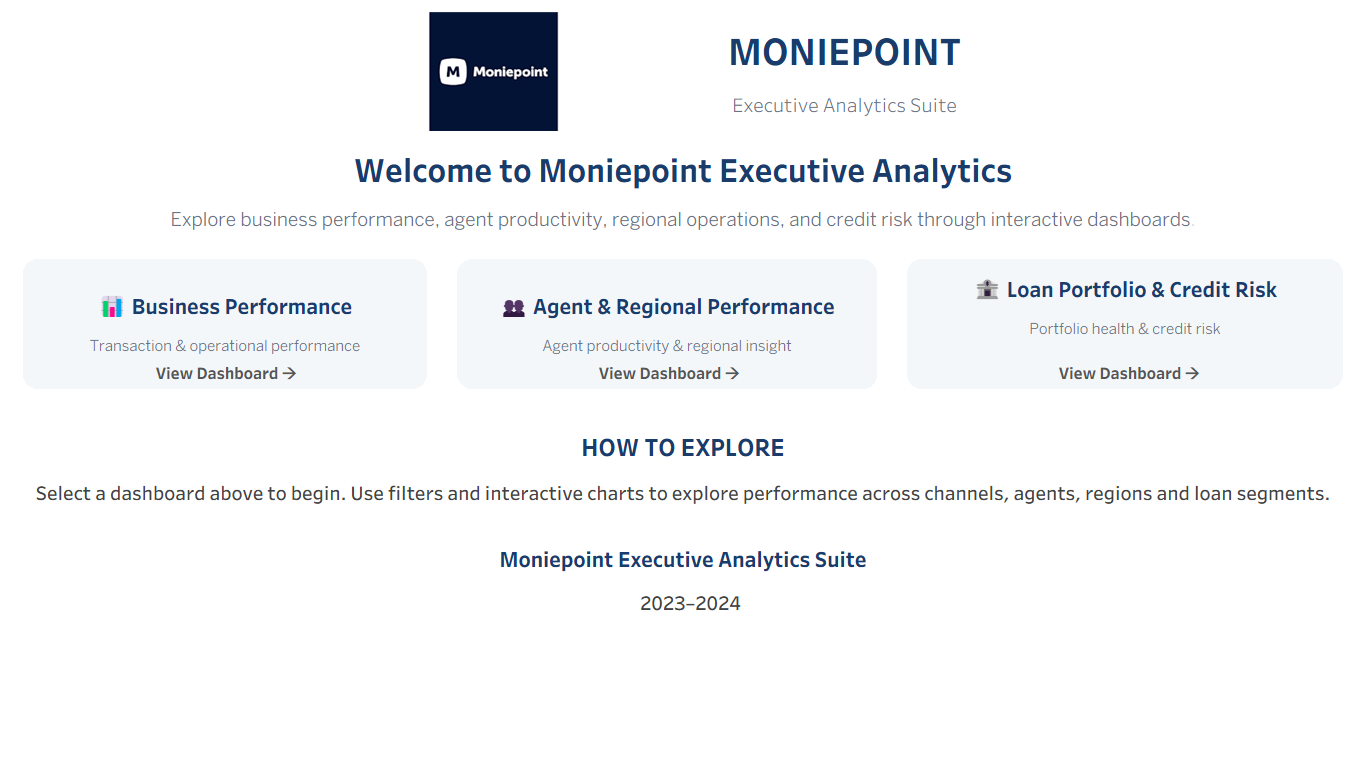

What the dashboard file says about the page in this screenshot:
{"tool":"tableau","page":{"name":"Welcome","canvas":[1366,768],"ordinal":5},"visuals":[{"type":"blank","box":[8,8,309,127]},{"type":"image","param":"Image/download.png","box":[317,8,354,127]},{"type":"text","box":[671,8,347,127]},{"type":"blank","box":[1018,8,340,127]},{"type":"text","box":[8,135,1350,109]},{"type":"text","box":[8,244,434,160]},{"type":"text","box":[442,244,450,160]},{"type":"text","box":[892,244,466,160]},{"type":"dashboard-object","box":[144,359,164,28]},{"type":"dashboard-object","box":[587,359,164,28]},{"type":"dashboard-object","box":[1047,359,164,28]},{"type":"text","box":[8,404,1350,128]},{"type":"text","box":[8,532,1350,97]},{"type":"blank","box":[8,629,1350,131]}]}

Visuals, with their boxes in screenshot pixels (x1, y1, x2, y2), scaled from the page's 1366x768 canvas onto the 1366x768 screenshot:
blank: <box>8,8,317,135</box>
image: <box>317,8,671,135</box>
text: <box>671,8,1018,135</box>
blank: <box>1018,8,1358,135</box>
text: <box>8,135,1358,244</box>
text: <box>8,244,442,404</box>
text: <box>442,244,892,404</box>
text: <box>892,244,1358,404</box>
dashboard-object: <box>144,359,308,387</box>
dashboard-object: <box>587,359,751,387</box>
dashboard-object: <box>1047,359,1211,387</box>
text: <box>8,404,1358,532</box>
text: <box>8,532,1358,629</box>
blank: <box>8,629,1358,760</box>
